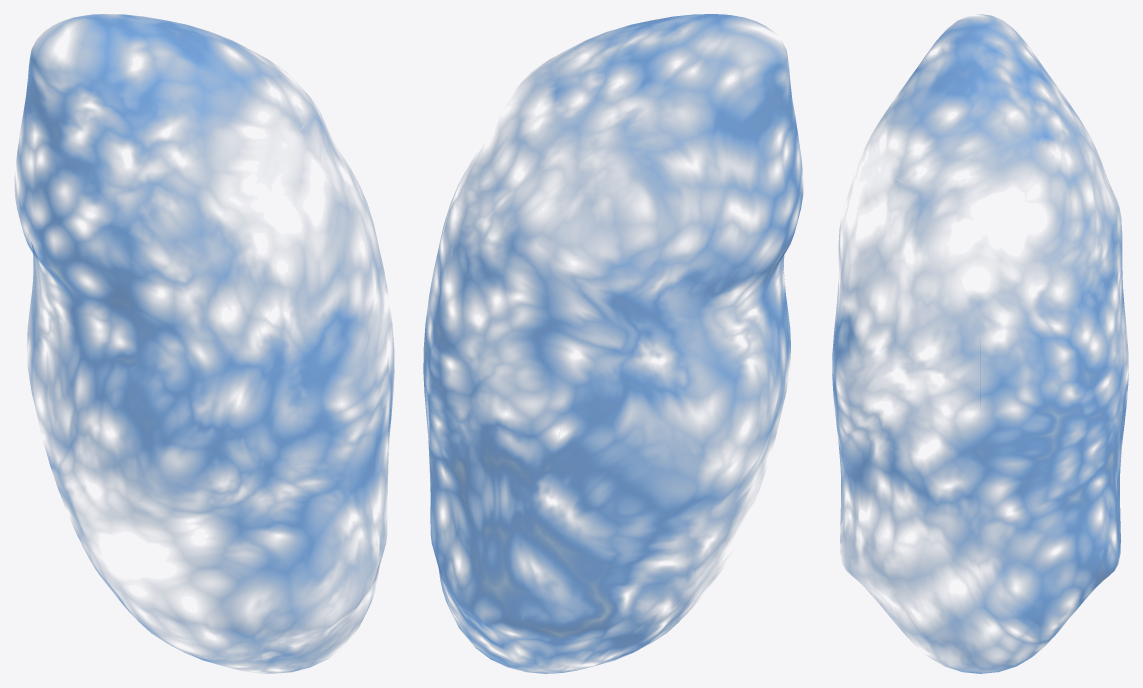
Rendered from catseye_inner_nebula.glb.
3 views of the same model, side by side, from view 1: azimuth 30°, elevation 25°; view 2: azimuth 150°, elevation 25°; view 3: azimuth 270°, elevation 25° (orthographic). The views are drawn at different scales.
Visible parts, largest first — view 1: Inner_Shell_Baked; view 2: Inner_Shell_Baked; view 3: Inner_Shell_Baked.
Boxes of the visible parts, x1=… form: Inner_Shell_Baked: x1=14, y1=14, x2=394, y2=673; Inner_Shell_Baked: x1=423, y1=14, x2=803, y2=673; Inner_Shell_Baked: x1=832, y1=14, x2=1128, y2=673.
Size of the model in its own units: 2.18 by 4.27 by 2.01.
1 material, 1 textured.
